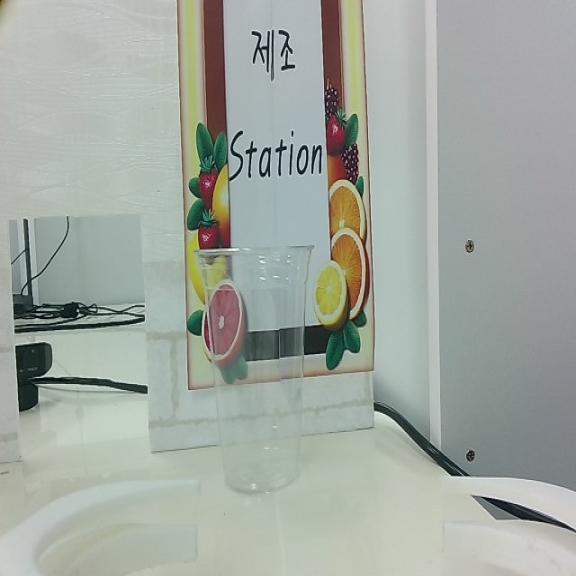Plastik: (200, 246, 311, 495)
